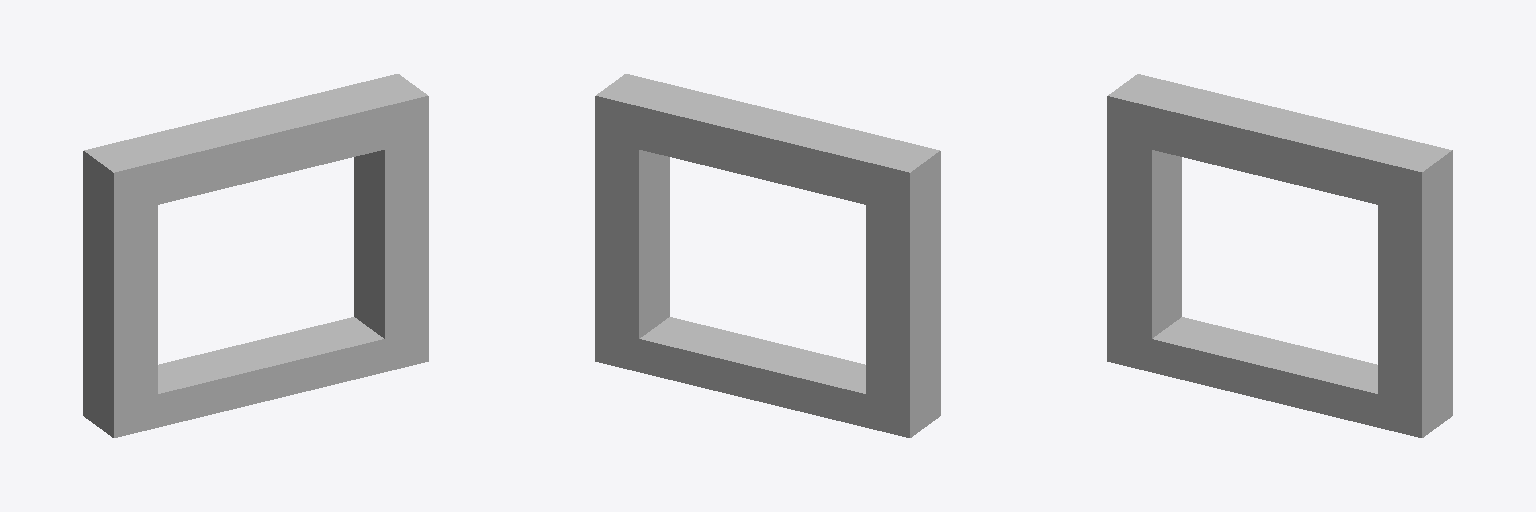
Rendered from zero.obj.
3 views of the same model, side by side, from view 1: azimuth 30°, elevation 25°; view 2: azimuth 150°, elevation 25°; view 3: azimuth 330°, elevation 25° (orthographic).
Parts seen in each view (by area): view 1: Cube.001; view 2: Cube.001; view 3: Cube.001.
Part boxes in pixels (left/top/right/bottom): Cube.001: left=83, top=74, right=428, bottom=437; Cube.001: left=595, top=74, right=940, bottom=437; Cube.001: left=1107, top=74, right=1452, bottom=437.
Bounding box in the file's own units: 0.5993 × 0.4841 × 0.1.